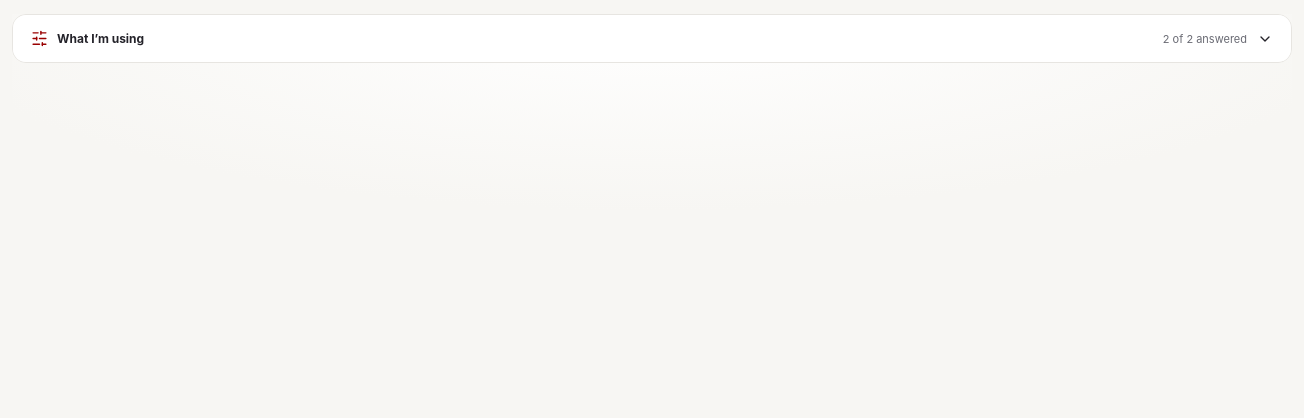
Test: information editor › cannot save or change answers while a request is pending
Click the button "What I’m using 2 of 2 answered" at (101, 38), box [13,15,1291,62]
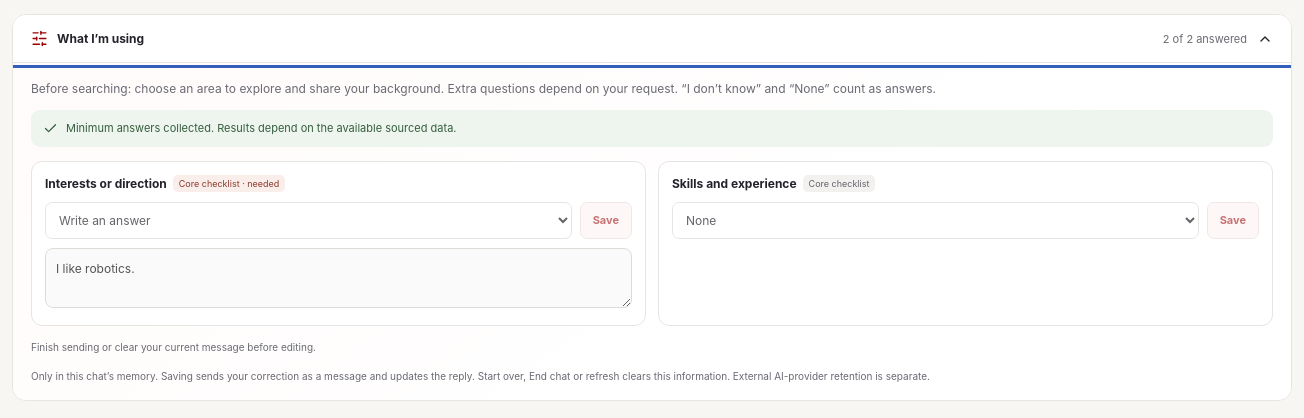
Result: the dropdown labelled "Interests or direction" is disabled at [45,202,572,239]
Result: the text box named "Interests or direction answer" is disabled at [45,248,632,308]
